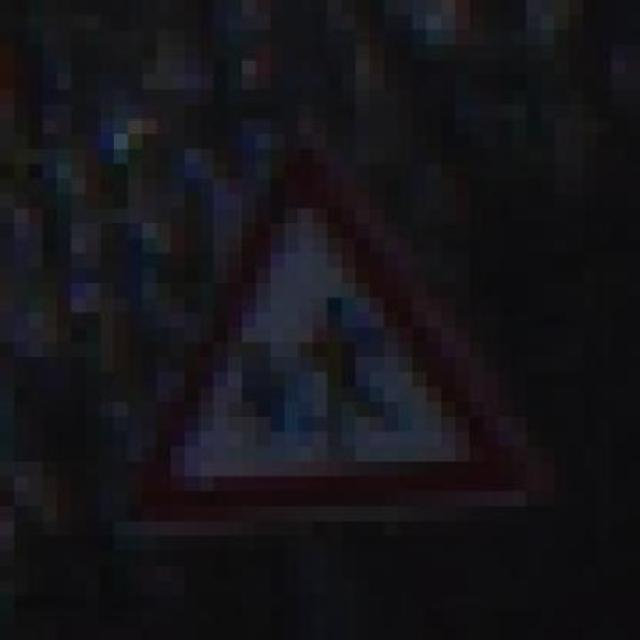Beware of children: (113, 119, 541, 536)
